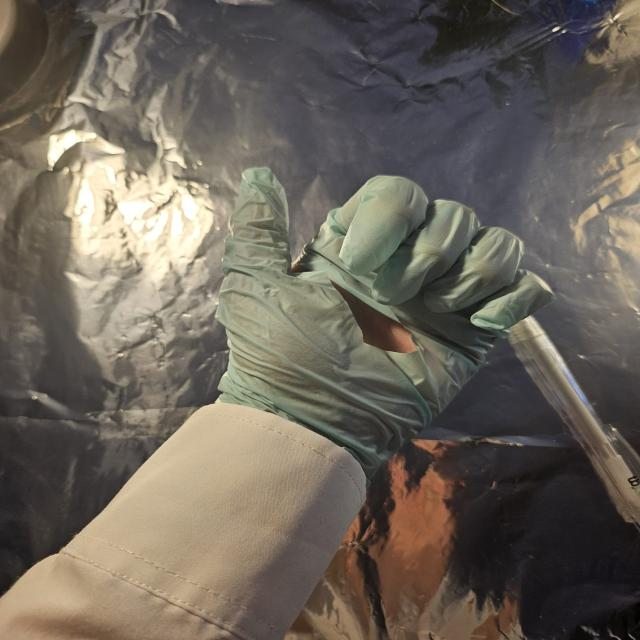gloves_damaged: (209, 165, 557, 473)
